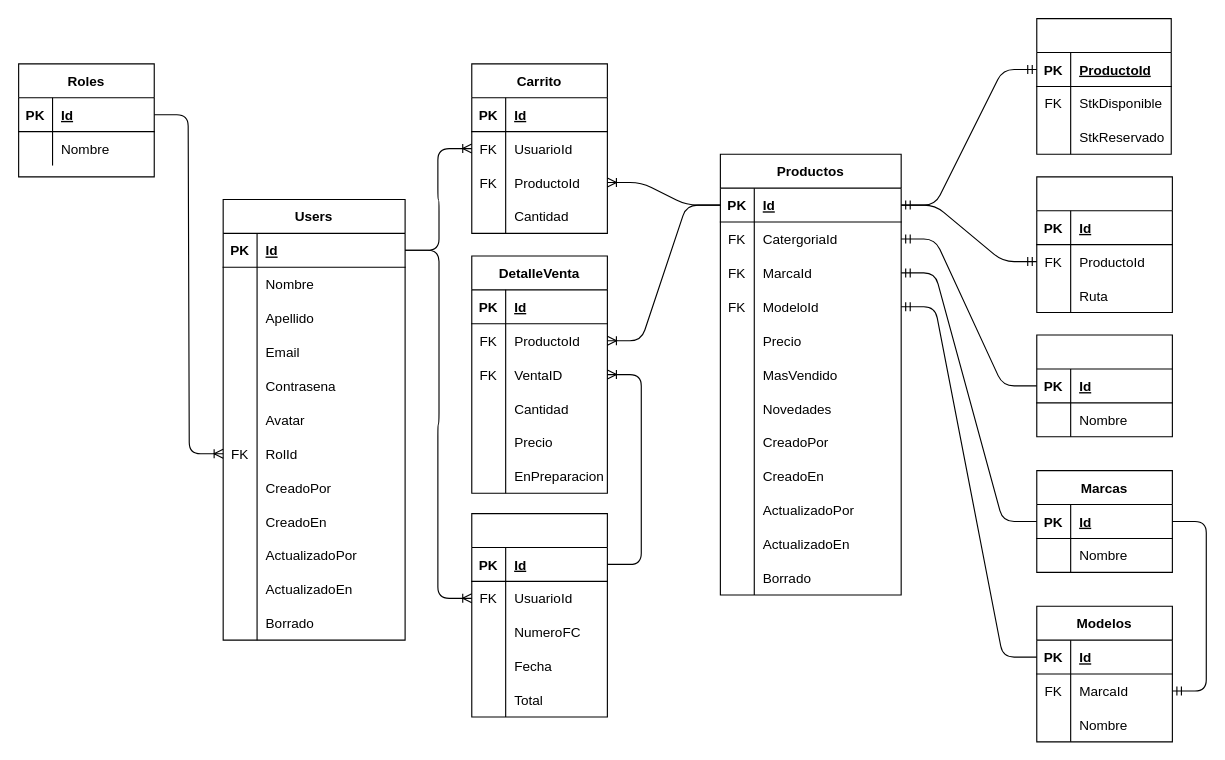
This 1225x760 diagram has some shape labels left out. The shapes that lost their labels are listed below. From the top down, each one's box as (x1, y1, x2, y2) in pixels, then its label:
(1036, 18, 1171, 154): Stock
(1036, 176, 1172, 312): Imágenes
(1036, 334, 1172, 437): Categorías
(471, 512, 607, 717): Venta
